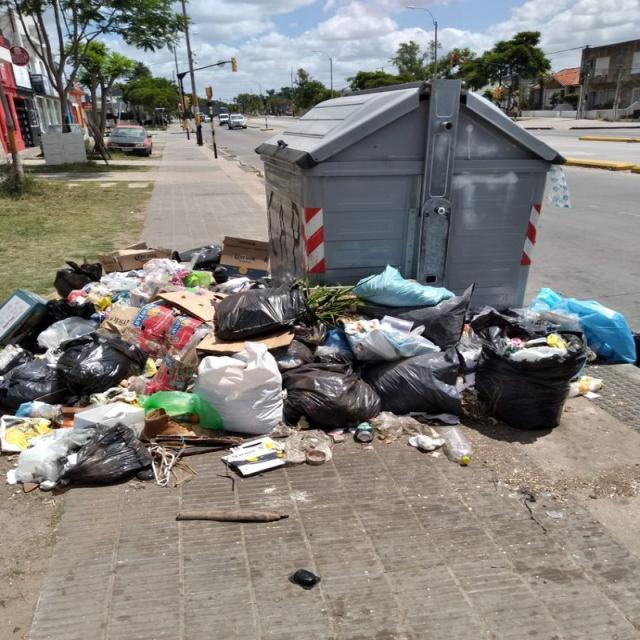garbage: (0, 233, 636, 513), (264, 558, 338, 592), (545, 158, 577, 216)
